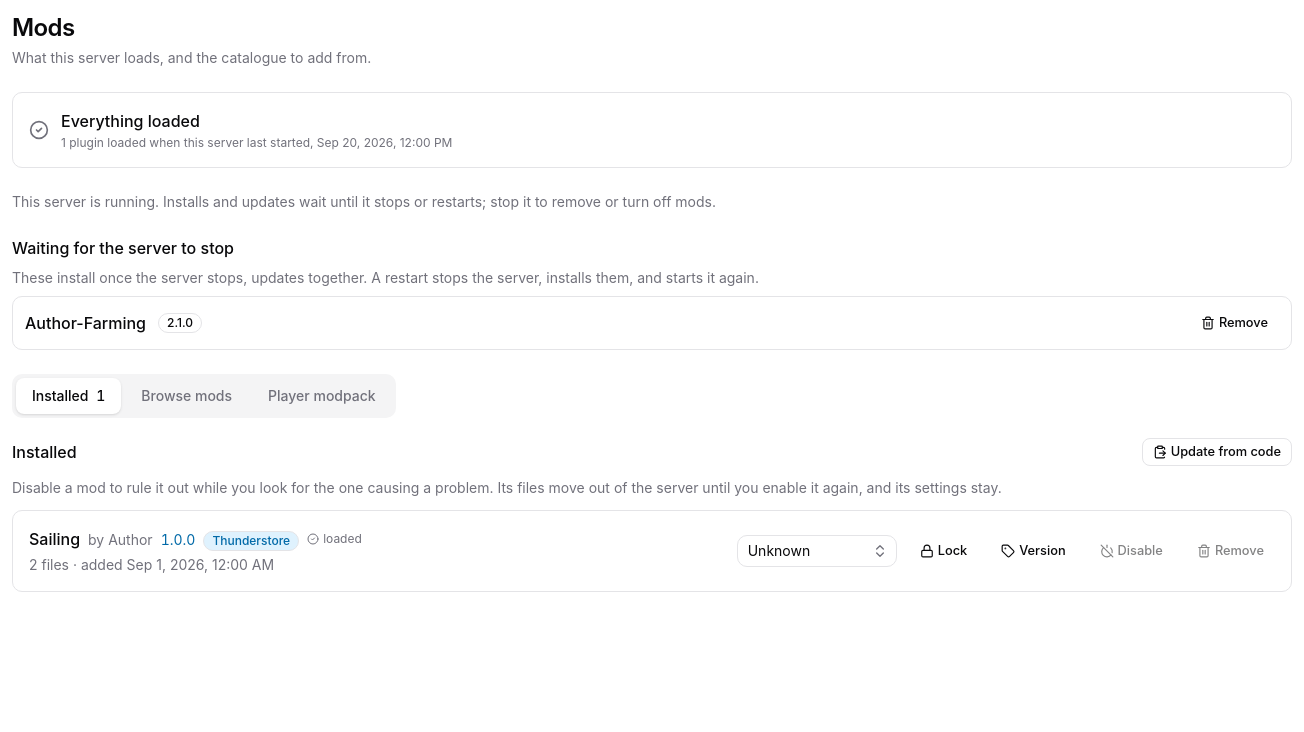
it: the mod screen › removes a queued install
Click the button with aria-label "Remove Author-Farming from the queue". click: (1234, 323)
box: [1190,309,1279,337]
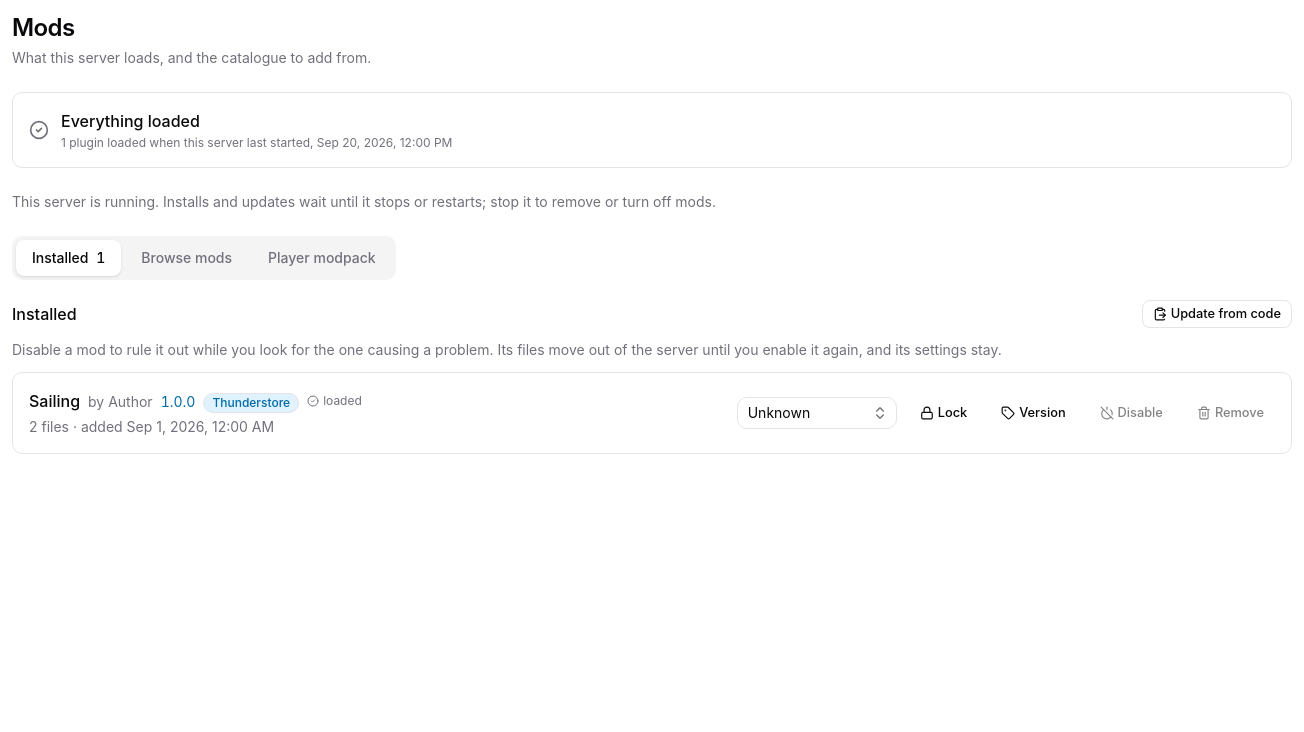
expect the element with test id "mod-queue" is gone: met
